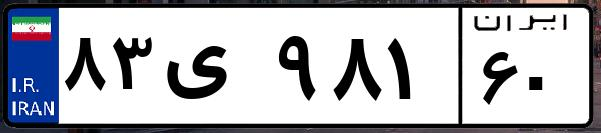0: (525, 38, 570, 115)
1: (385, 28, 445, 110)
3: (110, 28, 158, 98)
6: (475, 38, 525, 113)
8: (330, 28, 385, 110), (57, 26, 110, 100)
9: (270, 28, 330, 110)
ی: (158, 20, 270, 120)
